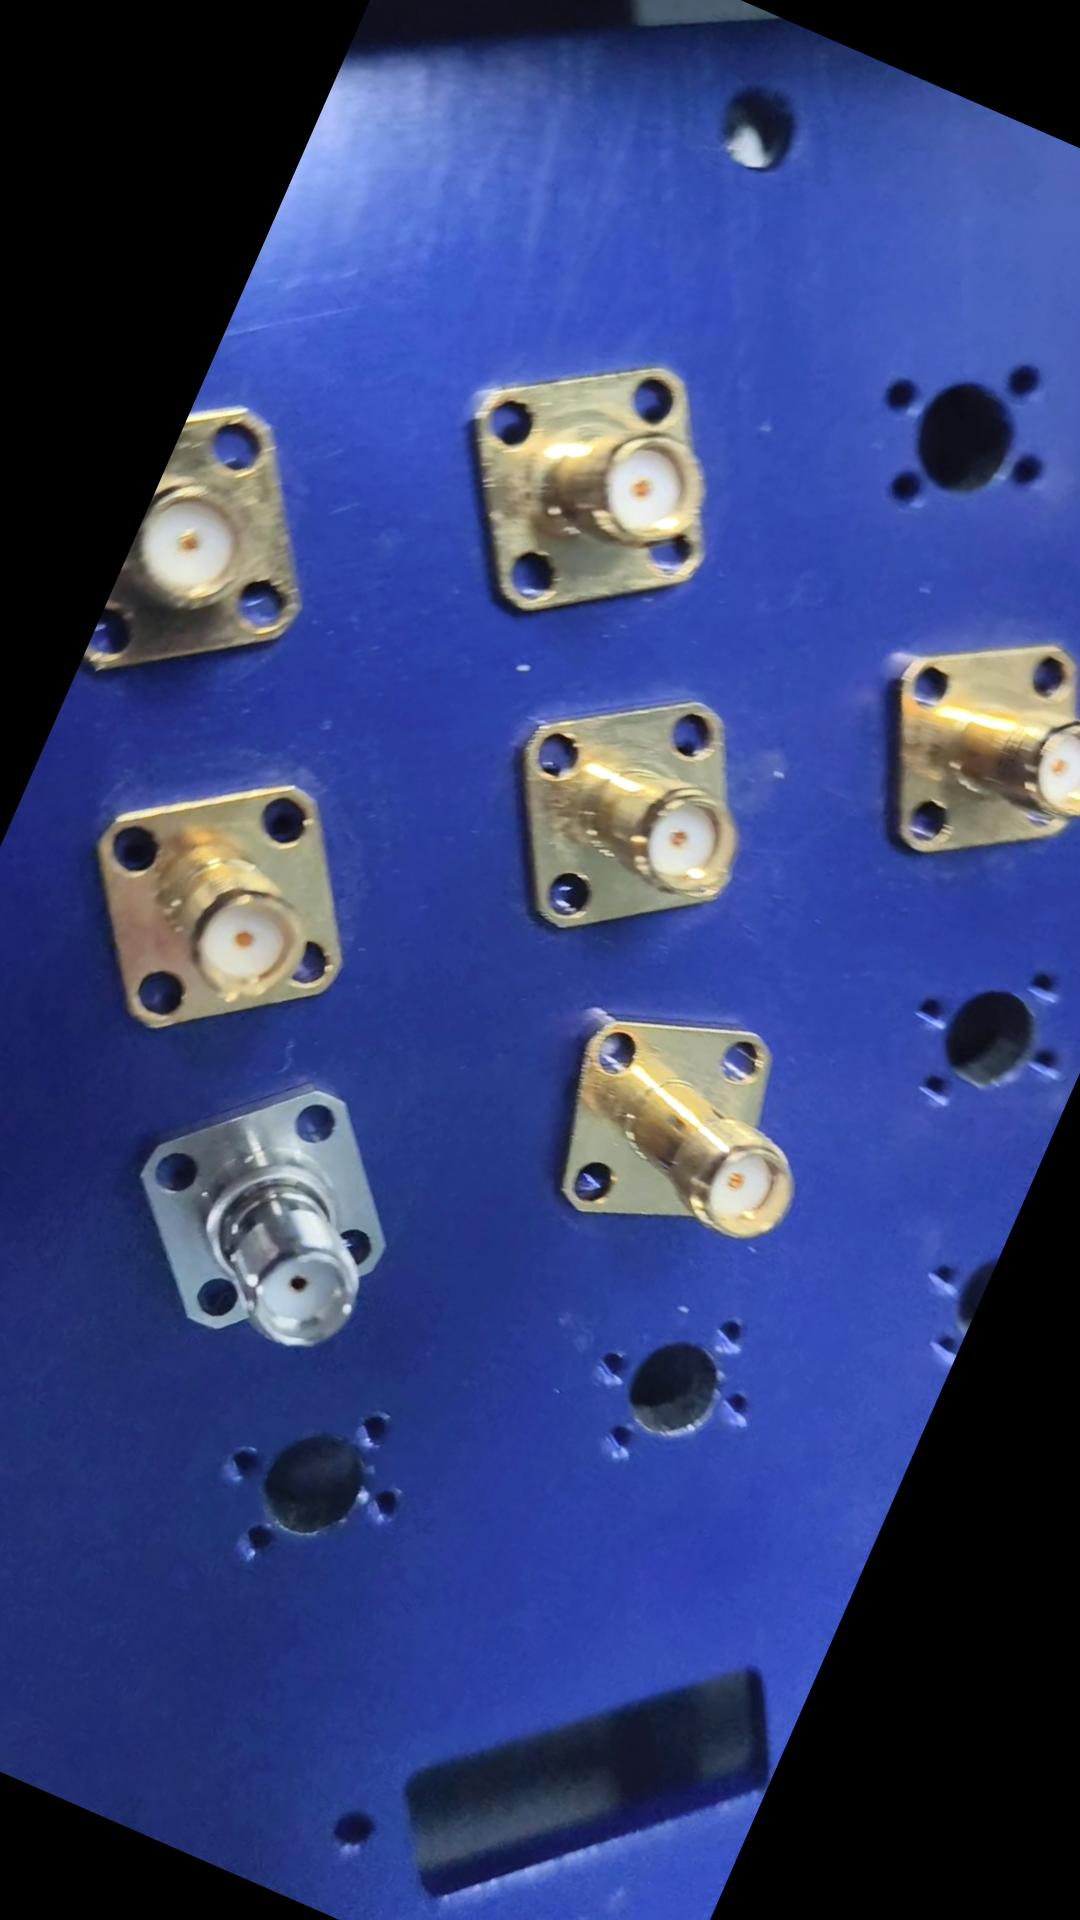SMA: (42, 711, 415, 1093), (92, 1023, 452, 1398), (415, 306, 767, 673), (472, 644, 800, 992), (520, 973, 855, 1298), (828, 589, 1080, 924)
